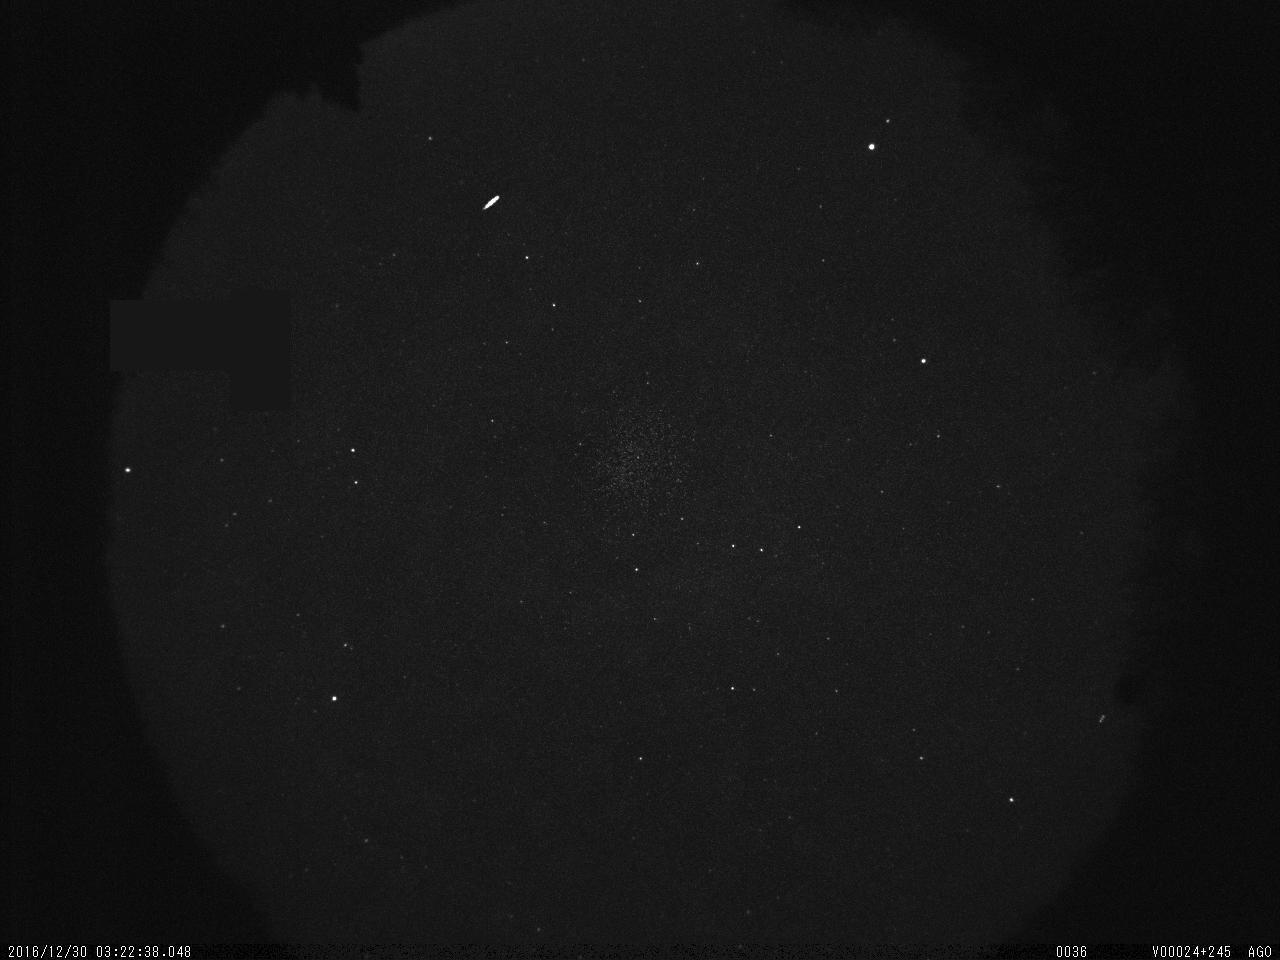meteor: (470, 169, 533, 256)
